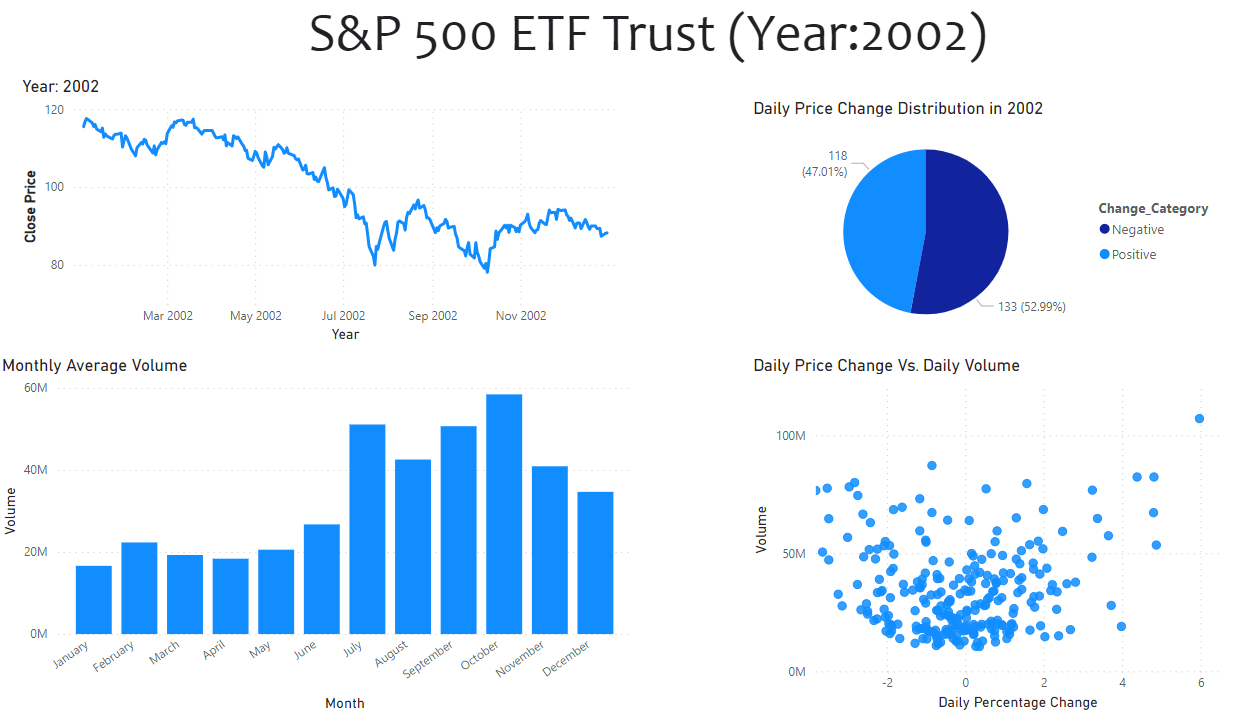

The page's visual inventory and layout, read from the dashboard file:
{"tool":"powerbi","page":{"name":"Page 1","canvas":[1280,720],"ordinal":0},"visuals":[{"type":"textbox","box":[20.8,0,1259.1,94.1],"z":0},{"type":"lineChart","title":"Year: 2002","fields":{"Y":["Avg(public stock_data.close)"],"Category":["public stock_data.date.Variation.Date Hierarchy.Year","public stock_data.date.Variation.Date Hierarchy.Quarter","public stock_data.date.Variation.Date Hierarchy.Month","public stock_data.date.Variation.Date Hierarchy.Day"]},"box":[19.6,80.7,621,271.4],"z":1000},{"type":"lineClusteredColumnComboChart","title":"Monthly Average Volume","fields":{"Y":["Avg(public stock_data.volume)"],"Category":["public stock_data.date.Variation.Date Hierarchy.Month"]},"box":[0,359.4,640.5,360.6],"z":2000},{"type":"pieChart","title":"Daily Price Change Distribution in 2002","fields":{"Category":["public stock_data.Change_Category"],"Y":["CountNonNull(public stock_data.daily_pct_change)"]},"box":[751.2,102.5,481.2,250],"z":3000},{"type":"scatterChart","title":"Daily Price Change Vs. Daily Volume","fields":{"X":["public stock_data.daily_pct_change"],"Y":["public stock_data.volume"]},"box":[751.2,360,481.2,360],"z":3001}]}

Visuals, with their boxes on the page's 1280x720 design canvas (x1, y1, x2, y2). These are canvas units, not pixel positions in the 1242x724 screenshot, which may show the page scaled, cropped or inside an application window:
textbox: [x1=21, y1=0, x2=1280, y2=94]
"Year: 2002" lineChart: [x1=20, y1=81, x2=641, y2=352]
"Monthly Average Volume" lineClusteredColumnComboChart: [x1=0, y1=359, x2=640, y2=720]
"Daily Price Change Distribution in 2002" pieChart: [x1=751, y1=102, x2=1232, y2=352]
"Daily Price Change Vs. Daily Volume" scatterChart: [x1=751, y1=360, x2=1232, y2=720]
